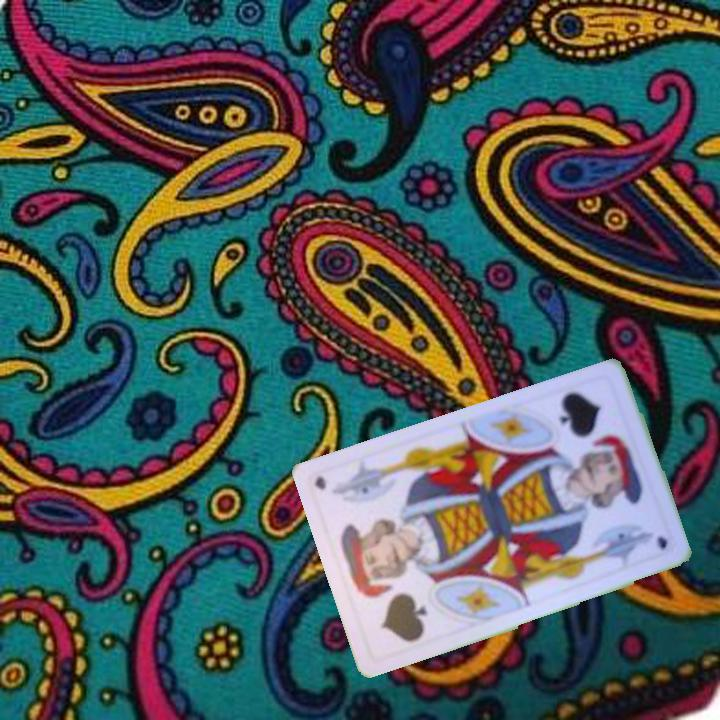s_j.png: (340, 539, 451, 660), (534, 375, 645, 495)
